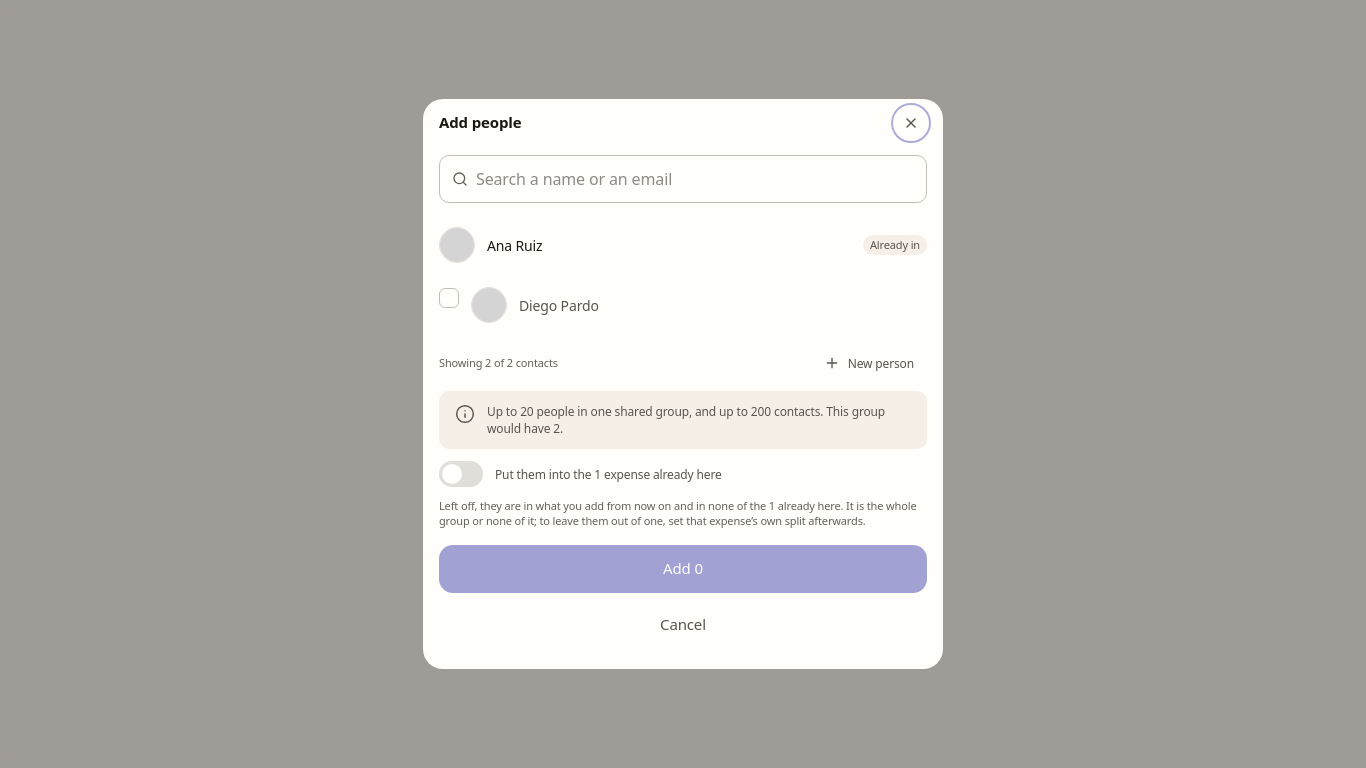
Scenario: adding people to a group that exists › asks nothing of the server until the switch says to
The width and height of the screenshot is (1366, 768).
Click the checkbox labelled "Diego Pardo": (519, 305) [439,287,599,323]
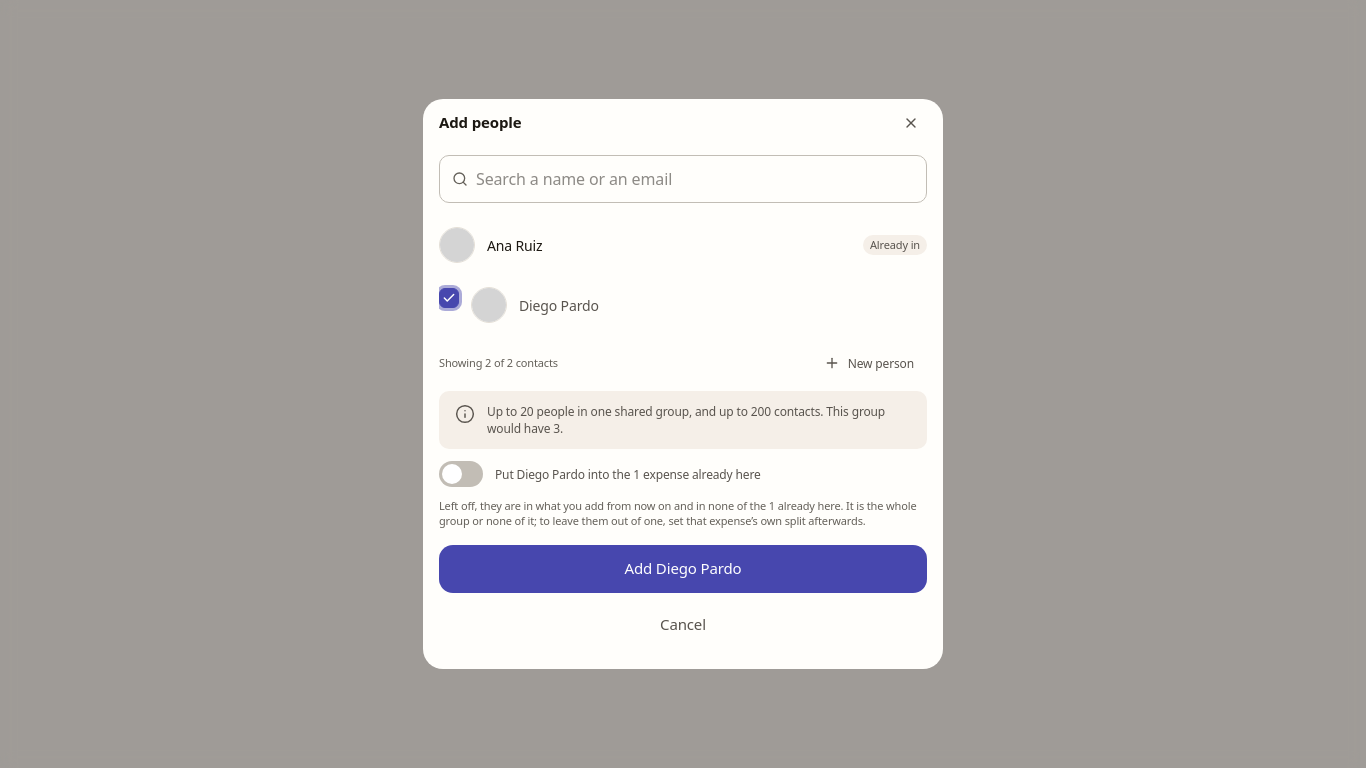
Now the 2nd button named "Add Diego Pardo" is enabled, box [439,545,927,593]
